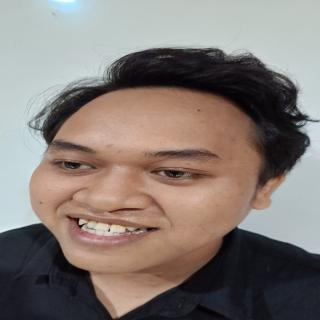Senang: (29, 85, 269, 280)
